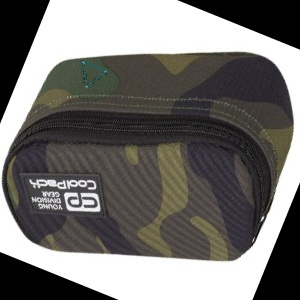triangle: (78, 58, 110, 90)
